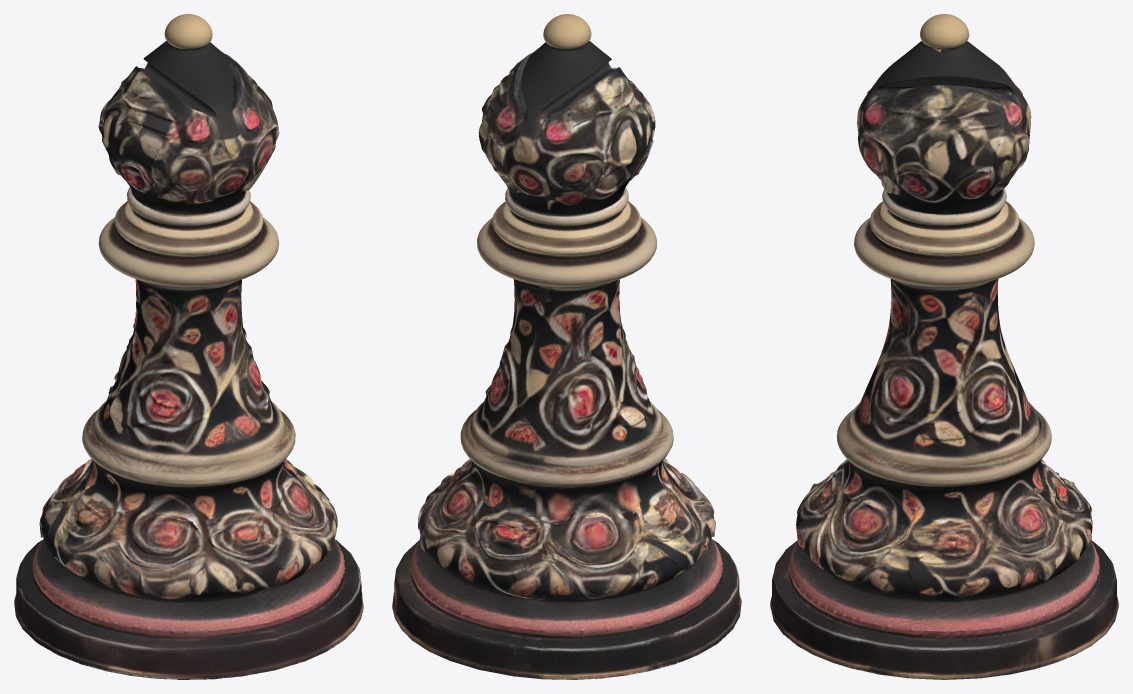
The model's file is pawn_black.glb.
3 views of the same model, side by side, from view 1: azimuth 30°, elevation 25°; view 2: azimuth 150°, elevation 25°; view 3: azimuth 270°, elevation 25° (orthographic).
Visible parts, largest first — view 1: model; view 2: model; view 3: model.
Part boxes in pixels (x1=…): model: x1=14, y1=14, x2=363, y2=679; model: x1=392, y1=14, x2=741, y2=679; model: x1=770, y1=14, x2=1118, y2=679.
Bounding box in the file's own units: 1.02 × 1.9 × 1.02.
1 material, 1 textured.
